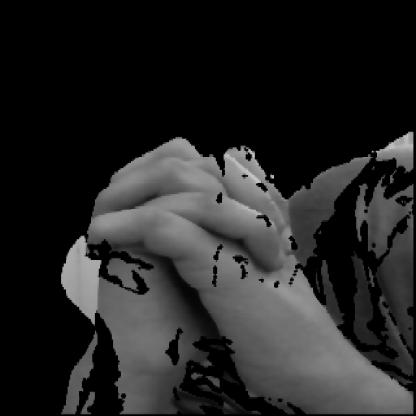prayer: (73, 128, 330, 414)
